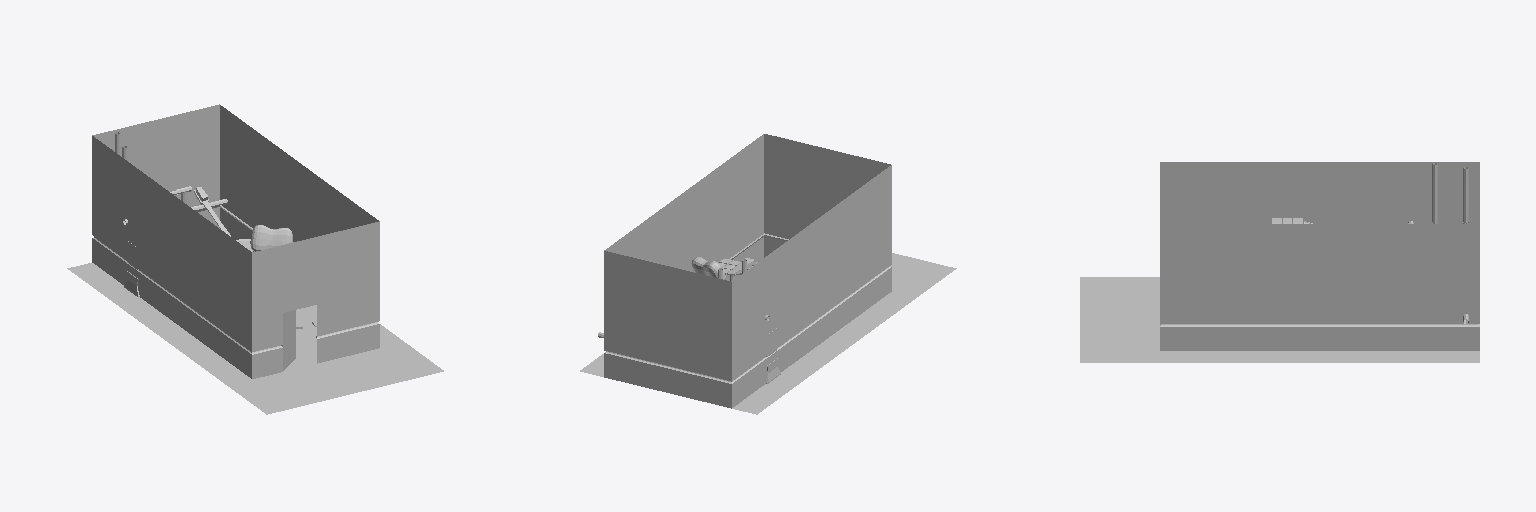
File: level_v5.obj
3 renders of one model, left to right at view 1: azimuth 30°, elevation 25°; view 2: azimuth 150°, elevation 25°; view 3: azimuth 270°, elevation 25°, orthographic.
Parts seen in each view (by area): view 1: walls; view 2: walls; view 3: walls.
Boxes of the visible parts, x1=… form: walls: x1=67, y1=104, x2=443, y2=414; walls: x1=580, y1=134, x2=956, y2=414; walls: x1=1080, y1=162, x2=1479, y2=362.
Size of the model in its own units: 42.52 by 30.01 by 82.67.